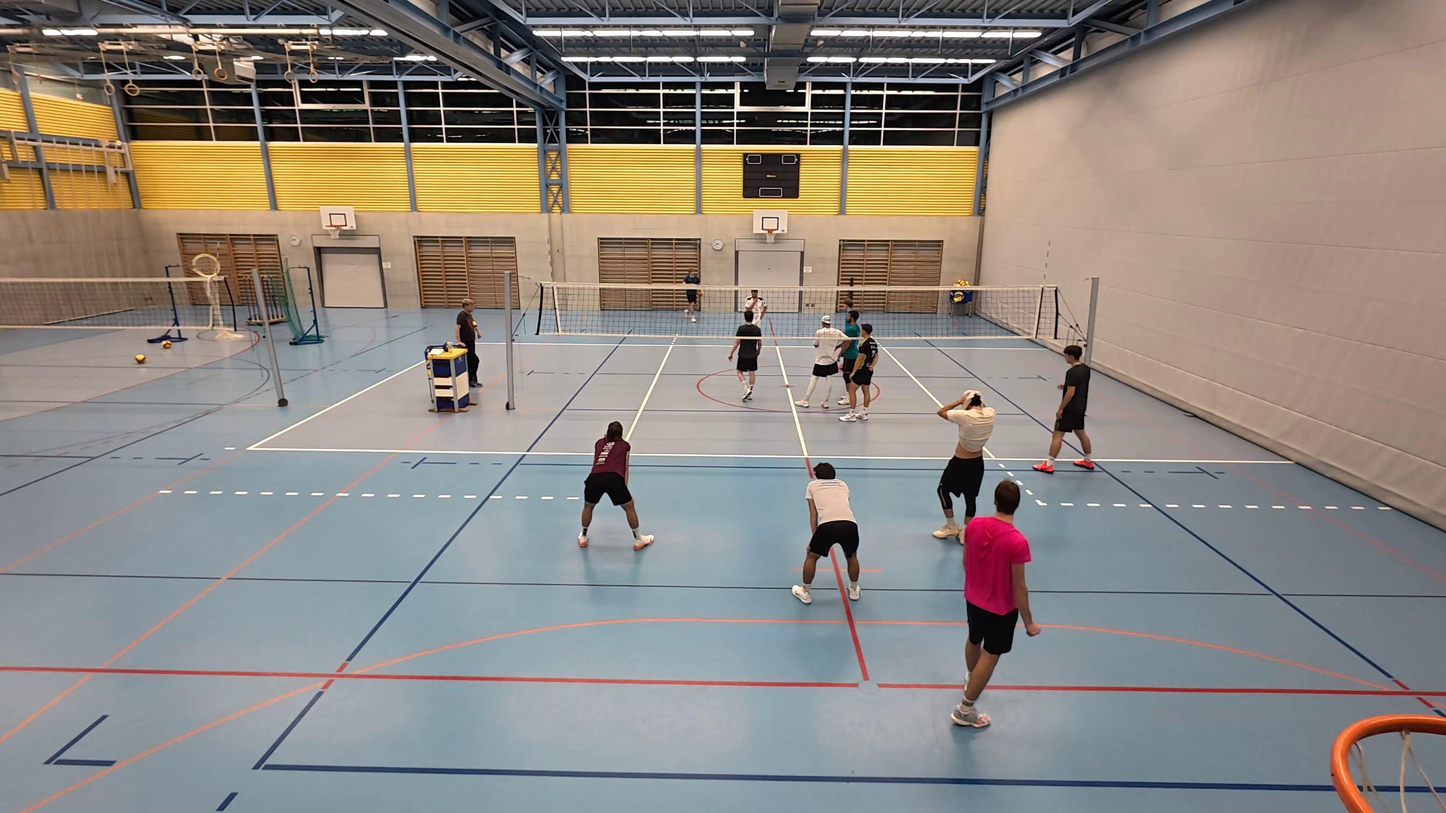Player: (951, 481, 1037, 728), (792, 461, 861, 604), (578, 420, 653, 551), (931, 389, 995, 541), (1034, 344, 1095, 473), (798, 324, 849, 410), (838, 323, 878, 423), (729, 311, 764, 404), (835, 308, 859, 409), (682, 269, 701, 322), (742, 288, 766, 325)
ball: (963, 390, 984, 409), (950, 289, 968, 304)
